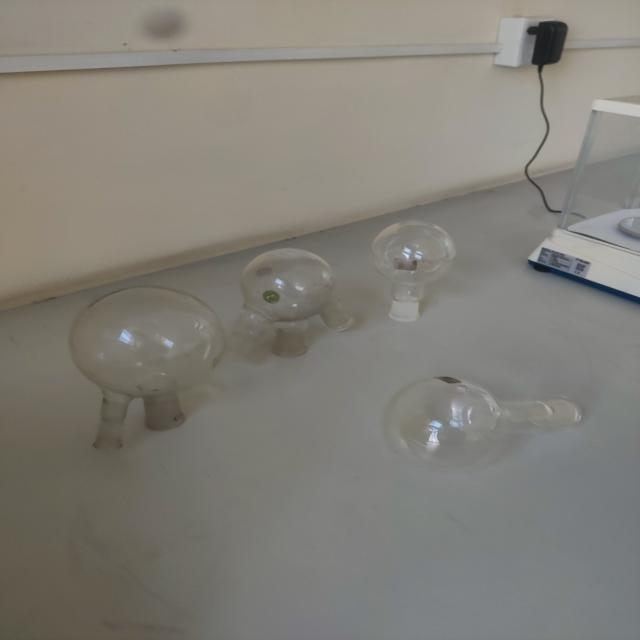Round_Bottom_Flask_Borosilicate_Glass_1_Neck: (370, 351, 602, 487), (350, 185, 492, 332)
Round_Bottom_Flask_Borosilicate_Glass_2_Neck: (43, 269, 232, 453)
Round_Bottom_Flask_Borosilicate_Glass_3_Neck: (216, 234, 377, 373)
